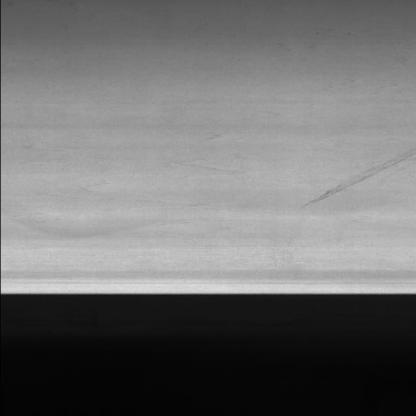water_spot: (292, 129, 416, 210)
